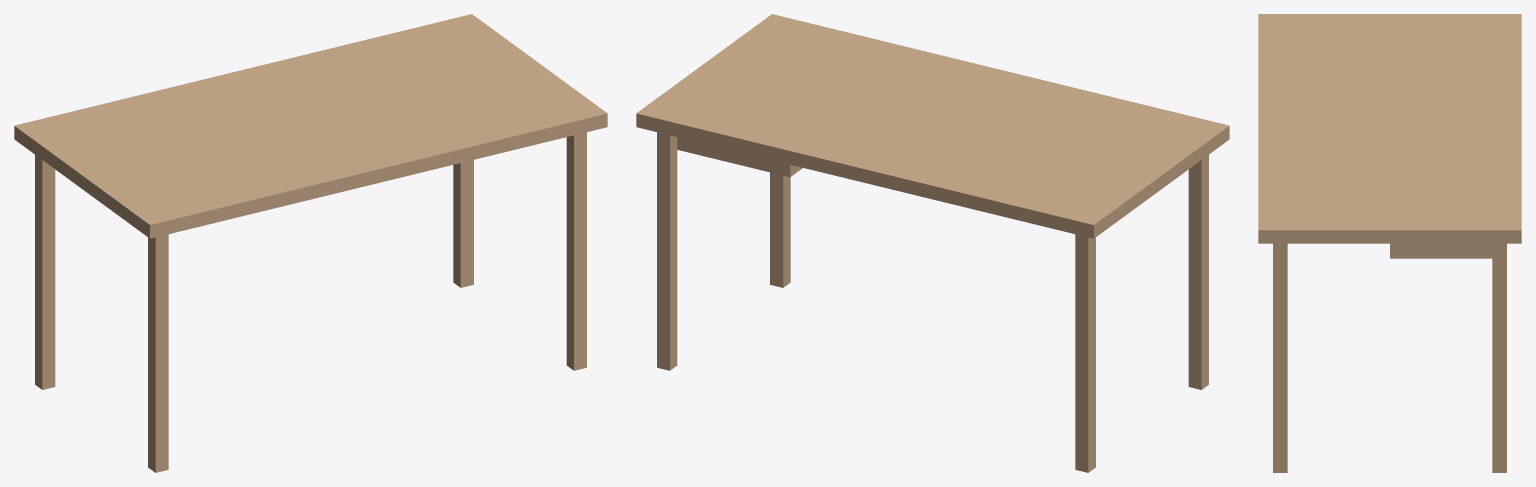
File: desk_01.glb
3 renders of one model, left to right at view 1: azimuth 30°, elevation 25°; view 2: azimuth 150°, elevation 25°; view 3: azimuth 270°, elevation 25°, orthographic. The views are drawn at different scales.
Size of the model in its own units: 1.4 by 0.75 by 0.72.
